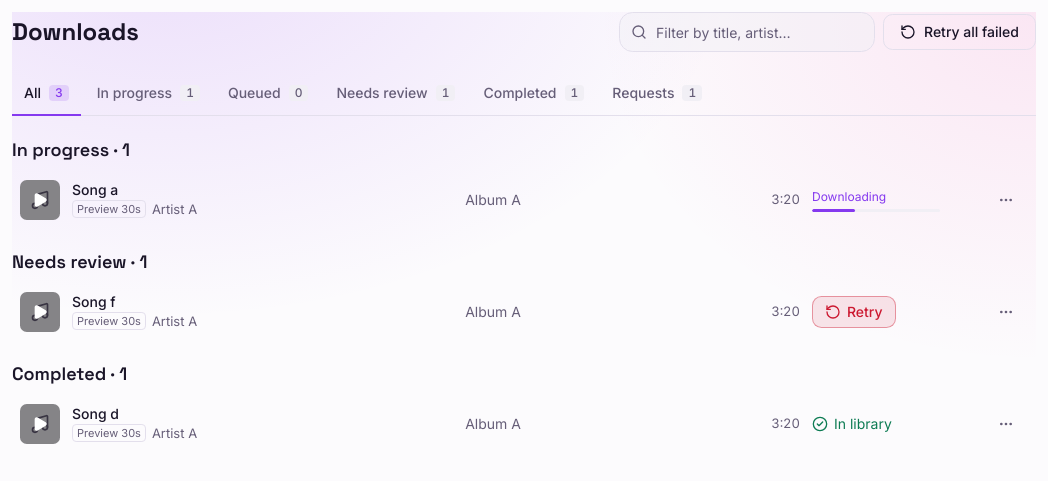
Test: Downloads › Requests (the approval policy) › a viewer the policy governs has a Requests tab that counts what waits, and it lists their requests
Click the button "Requests 1": click(657, 94) [600,72,714,116]
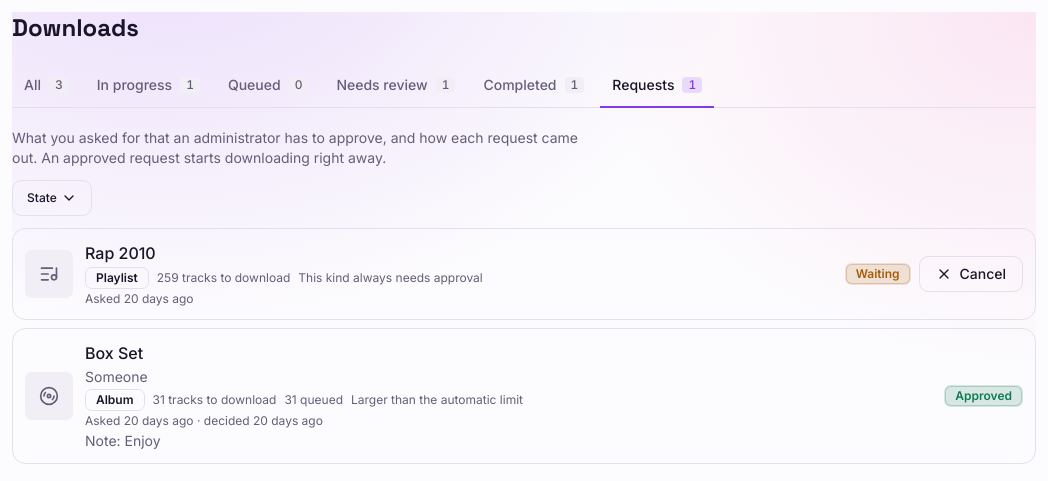
Check: the link "Rap 2010" is shown, box [85,243,156,263]
Check: the link "Box Set" is shown, box [85,343,143,363]
Check: the button "Retry all failed" is gone
